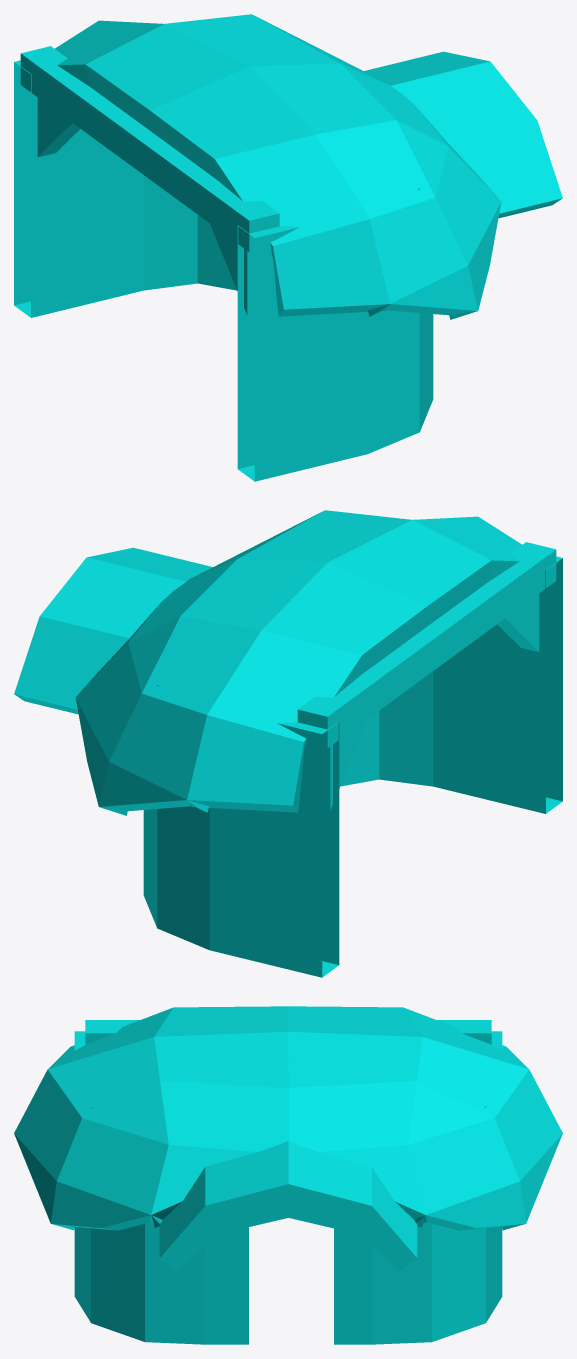
The model's file is SM_Bld_Roof_Thatch_Preset_Round_02_Collision.fbx.
The picture shows the model from 3 angles, top to bottom: view 1: azimuth 30°, elevation 25°; view 2: azimuth 150°, elevation 25°; view 3: azimuth 270°, elevation 25°; orthographic projection. The views are drawn at different scales.
Parts seen in each view (by area): view 1: SM_Bld_Roof_Thatch_Preset_Round_02_Collision; view 2: SM_Bld_Roof_Thatch_Preset_Round_02_Collision; view 3: SM_Bld_Roof_Thatch_Preset_Round_02_Collision.
Part boxes in pixels (x1,y1,x2,y2): SM_Bld_Roof_Thatch_Preset_Round_02_Collision: (14,14,562,481); SM_Bld_Roof_Thatch_Preset_Round_02_Collision: (14,510,562,977); SM_Bld_Roof_Thatch_Preset_Round_02_Collision: (14,1006,562,1344).
Bounding box in the file's own units: 459 × 369 × 690.
